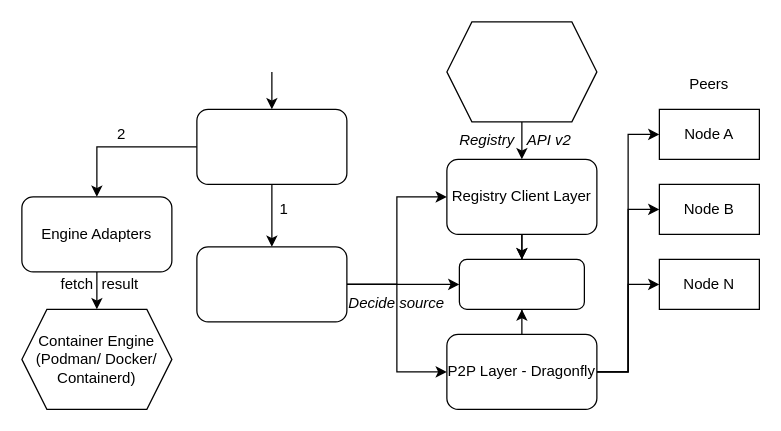
The diagram is 781 pixels wide and 431 high, and some of its shapes have lost their labels. Each missing label, with the box of its shape:
Cache: (458, 258, 584, 309)
Central Registry (Docker/ Harbor ): (446, 21, 597, 122)
Command line interface: (196, 108, 347, 184)
Request Dispatcher: (196, 246, 347, 322)
